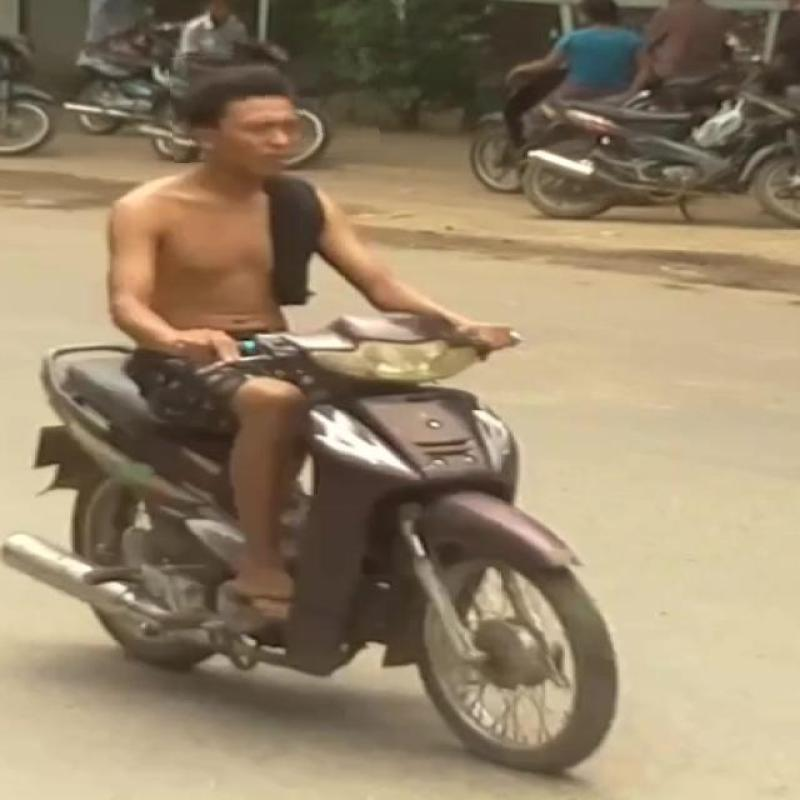nohelmet: (170, 50, 380, 161)
